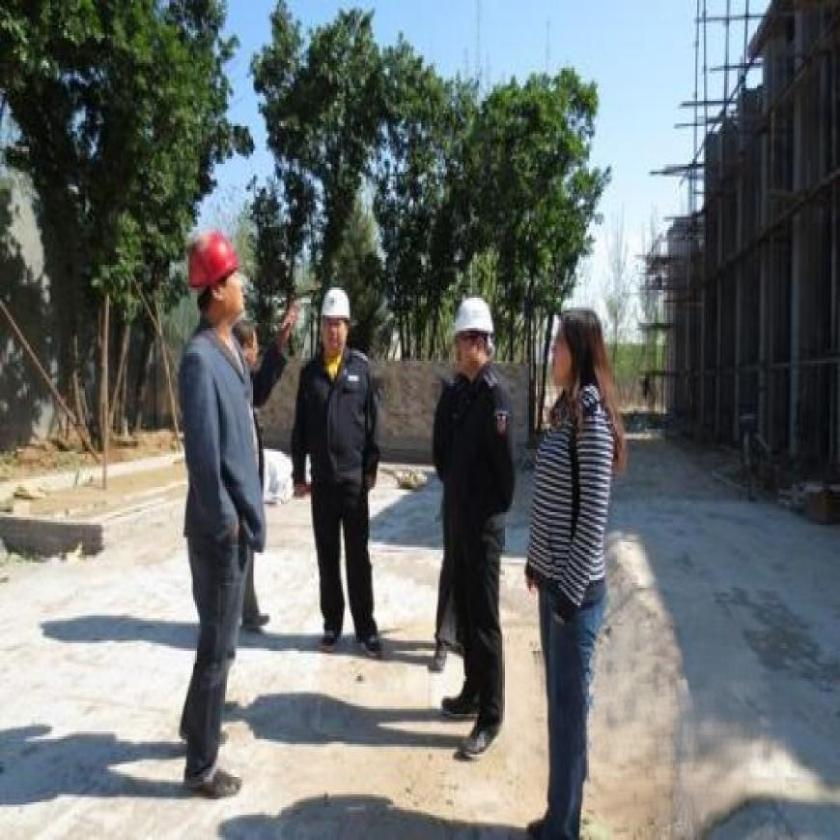Con_casco: (187, 228, 247, 335), (447, 294, 493, 374), (311, 282, 354, 362)
Sin_casco: (542, 303, 606, 402)
